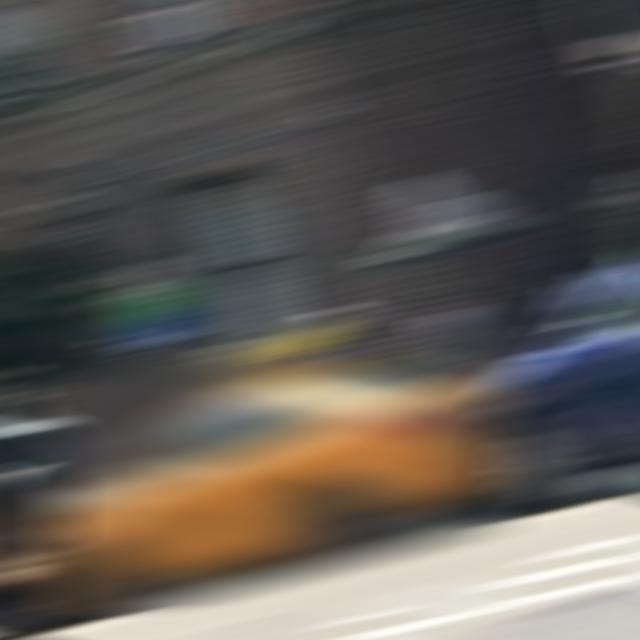Taxi: (46, 360, 508, 610)
